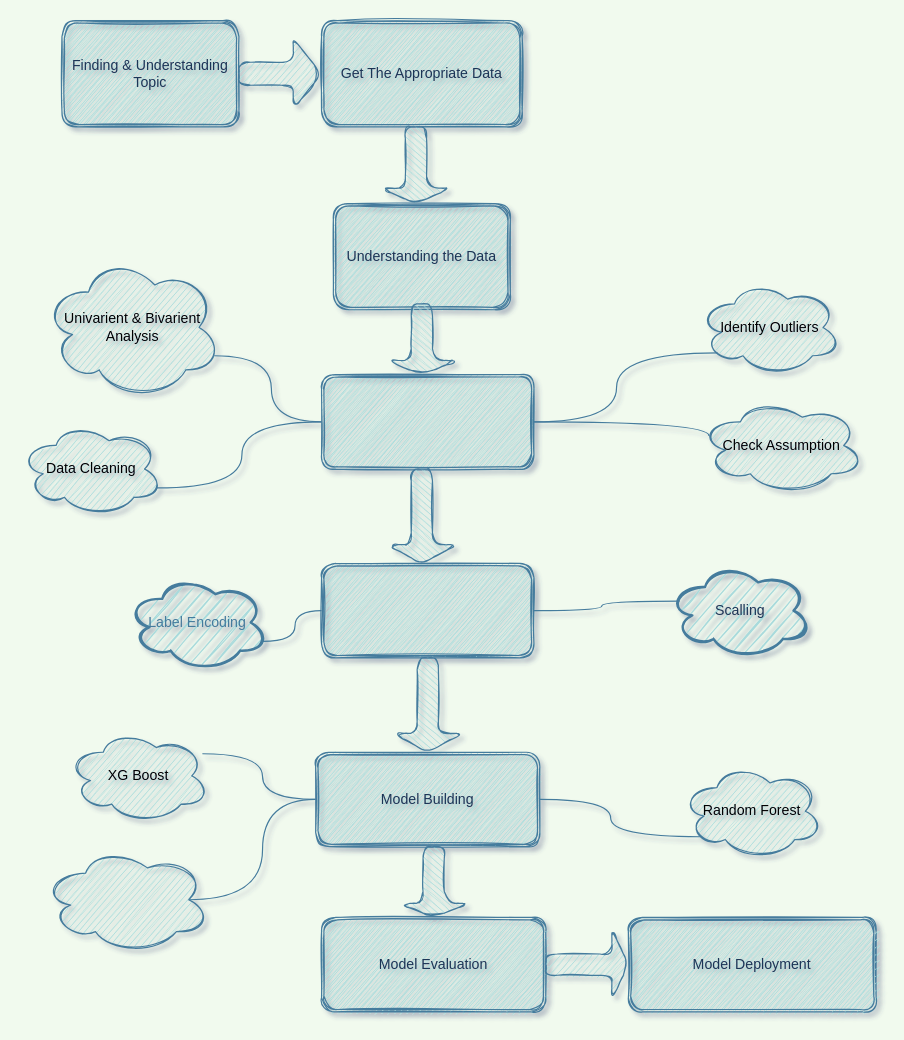
Some shapes in this 904 by 1040 pixel diagram are drawn without their labels. Here are the shapes that lost their labels. From the top down, the centre of each, then its label:
At [427,421]: "Exploratory Data Analysis(EDA)".
At [427,610]: "Feature Engineering".
At [126,899]: "Logistic Regression".
